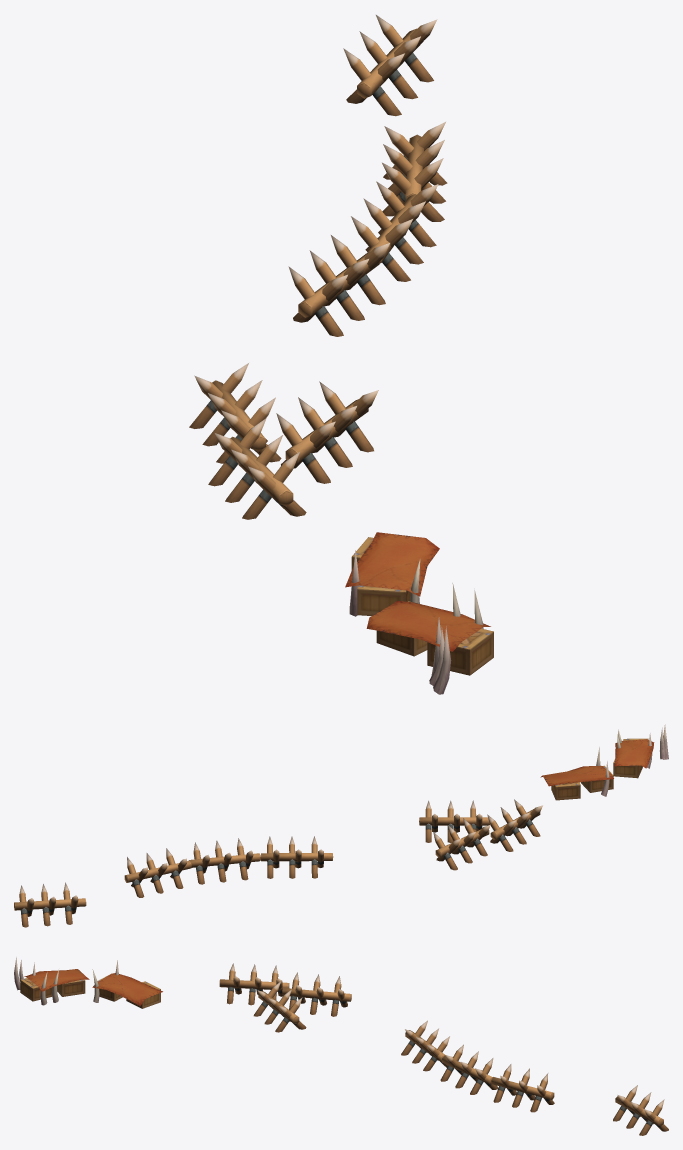
File: area_02_14.fbx
The picture shows the model from 3 angles, top to bottom: view 1: azimuth 30°, elevation 25°; view 2: azimuth 150°, elevation 25°; view 3: azimuth 270°, elevation 25°; orthographic projection. The views are drawn at different scales.
Parts seen in each view (by area): view 1: area_02_14; view 2: area_02_14; view 3: area_02_14.
Boxes of the visible parts, box(x1,y1,x2,y2) form: area_02_14: box(189, 15, 493, 694); area_02_14: box(14, 724, 668, 927); area_02_14: box(14, 957, 668, 1135).
Size of the model in its own units: 28.01 by 3.15 by 49.6.
